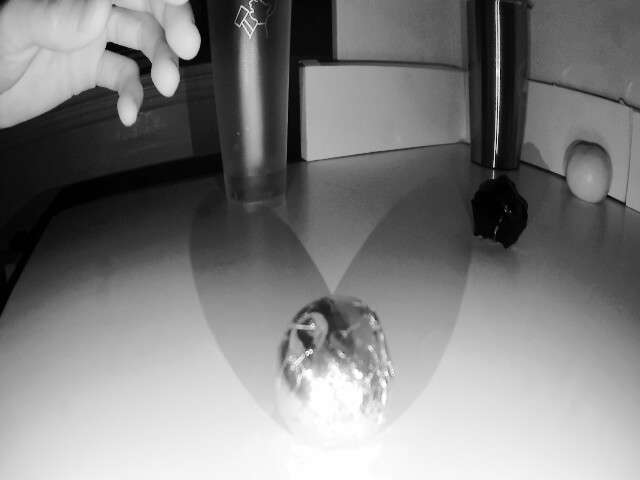black: (472, 176, 526, 254)
silver: (265, 299, 393, 445)
